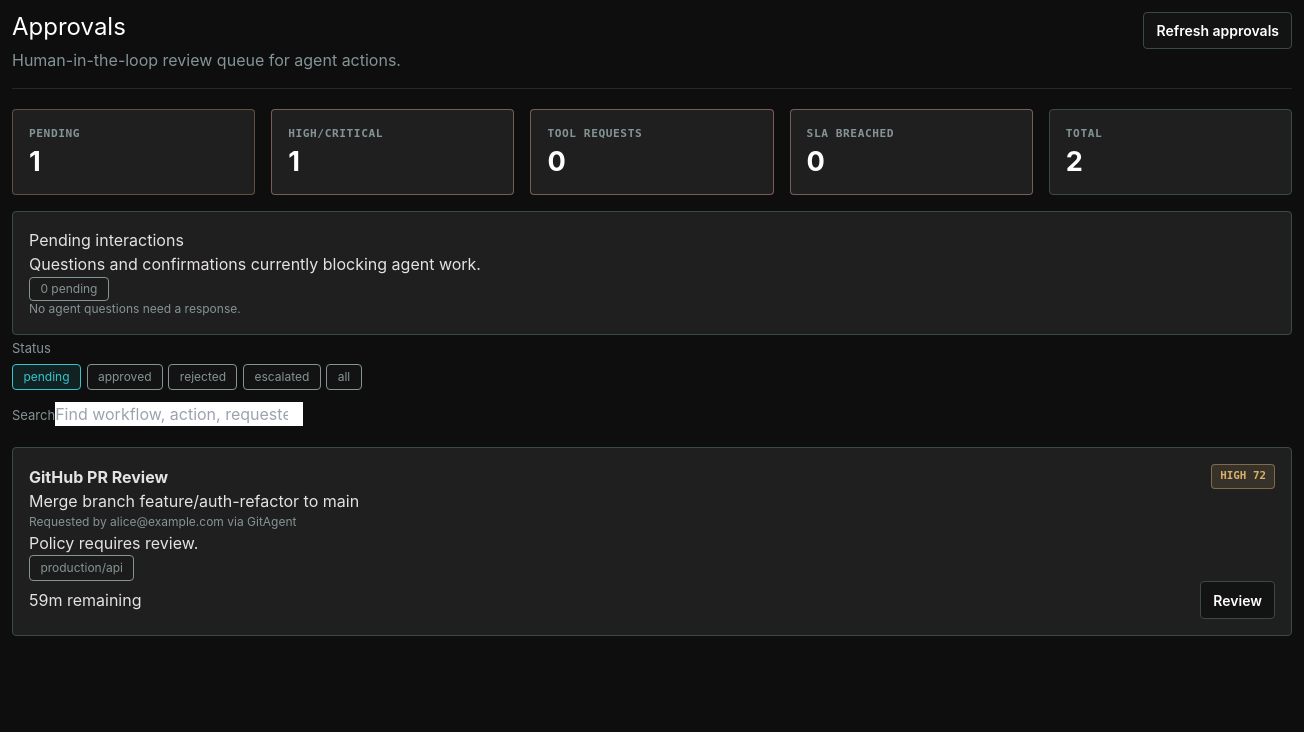
it: ApprovalsDashboard integration › filters to decided approvals and shows their status history
Expected: the heading "Approvals" is shown, [12,12,126,41]
Click the button "approved": (125, 377) [86,364,163,390]
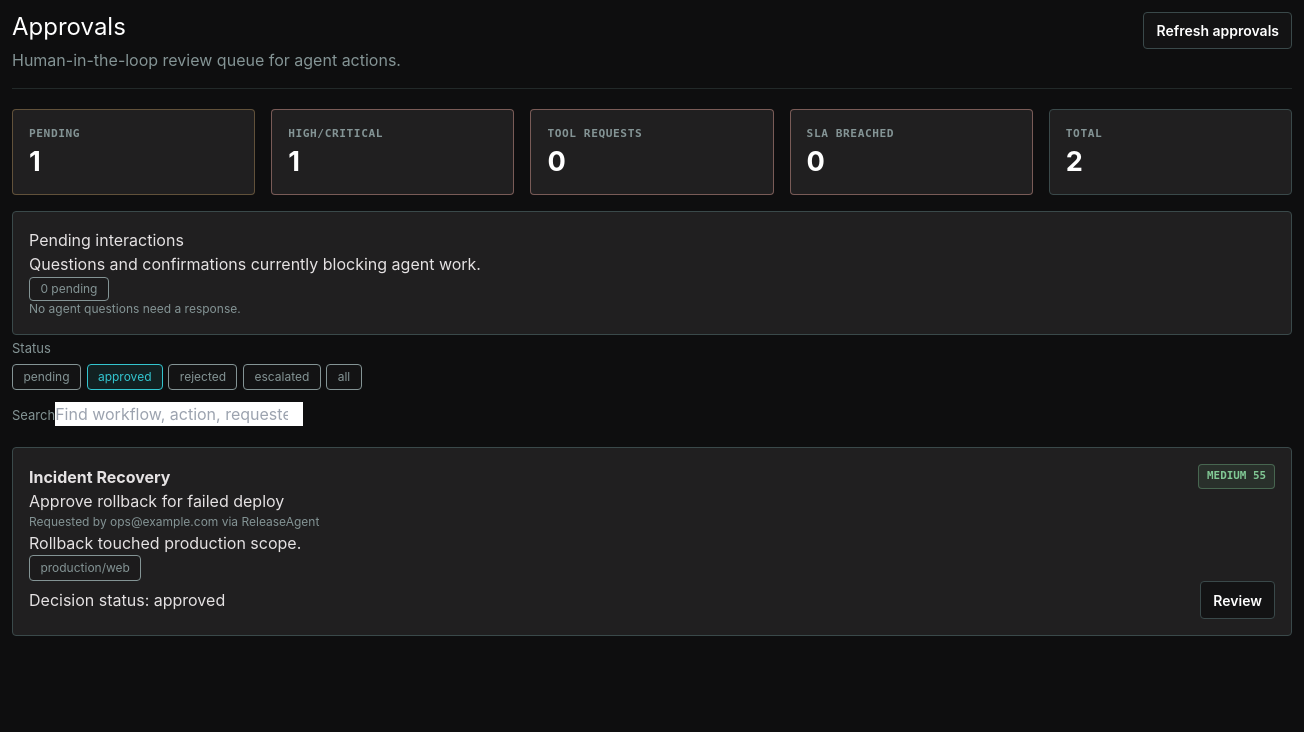
Expected: the text "Incident Recovery" is shown, [29,465,170,489]
Expected: the text "GitHub PR Review" is gone
Expected: the text "Decision status: approved" is shown, [29,588,225,612]
